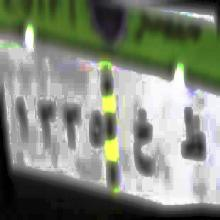1: (16, 93, 30, 147)
3: (59, 95, 82, 153), (37, 95, 56, 149)
5: (88, 103, 104, 156)
Thaa: (178, 100, 206, 175)
khaa: (130, 101, 155, 180)
